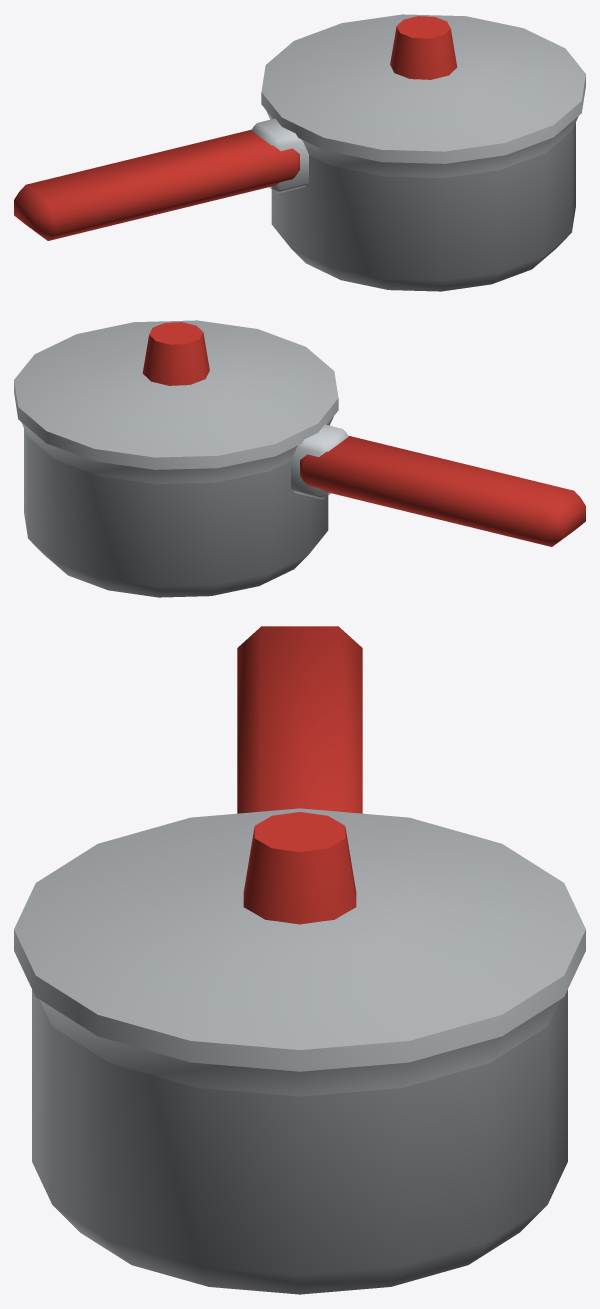
Rendered from Pot_Sauce_01.glb.
3 views of the same model, one above another, from view 1: azimuth 30°, elevation 25°; view 2: azimuth 150°, elevation 25°; view 3: azimuth 270°, elevation 25° (orthographic). The views are drawn at different scales.
Visible parts, largest first — view 1: SM_Pot_Sauce_01; view 2: SM_Pot_Sauce_01; view 3: SM_Pot_Sauce_01.
Part boxes in pixels (left/top/right/bottom): SM_Pot_Sauce_01: left=14, top=14, right=585, bottom=291; SM_Pot_Sauce_01: left=14, top=320, right=585, bottom=597; SM_Pot_Sauce_01: left=14, top=626, right=585, bottom=1294.
Size of the model in its own units: 0.366 by 0.134 by 0.192.
1 material, 1 textured.
